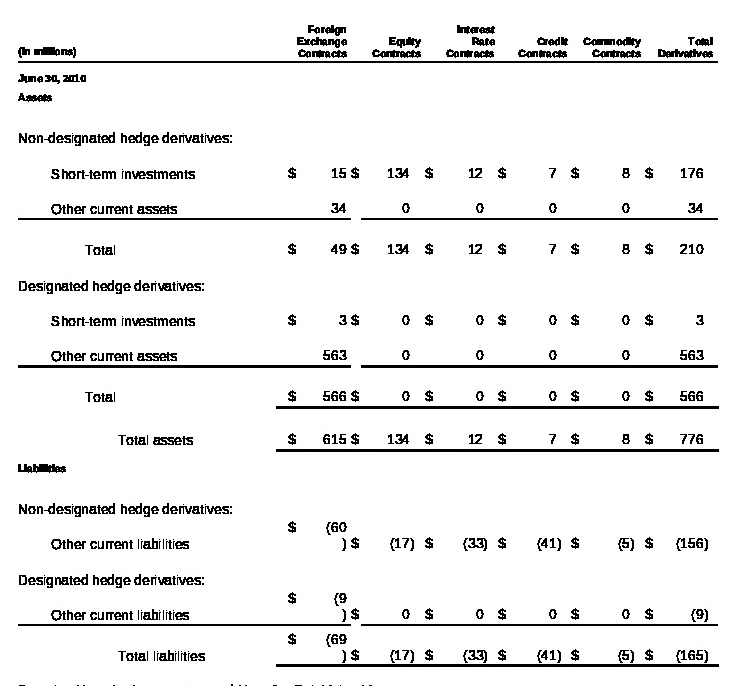table: (0, 0, 744, 686)
